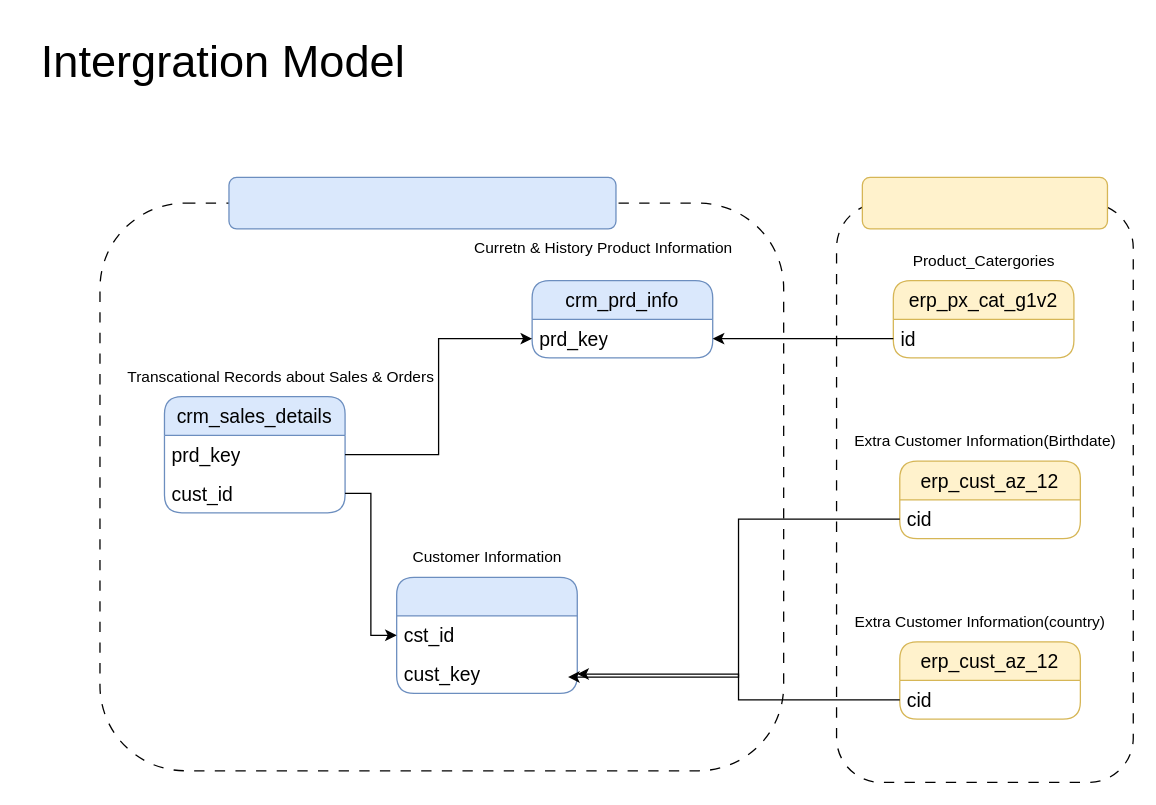
Some shapes in this 1156 by 805 pixel diagram are drawn without their labels. Here are the shapes that lost their labels. From the top down, the box of each, then its label:
(228, 176, 616, 229): CRM
(861, 176, 1107, 229): ERP
(395, 576, 577, 693): crm_cust_info
